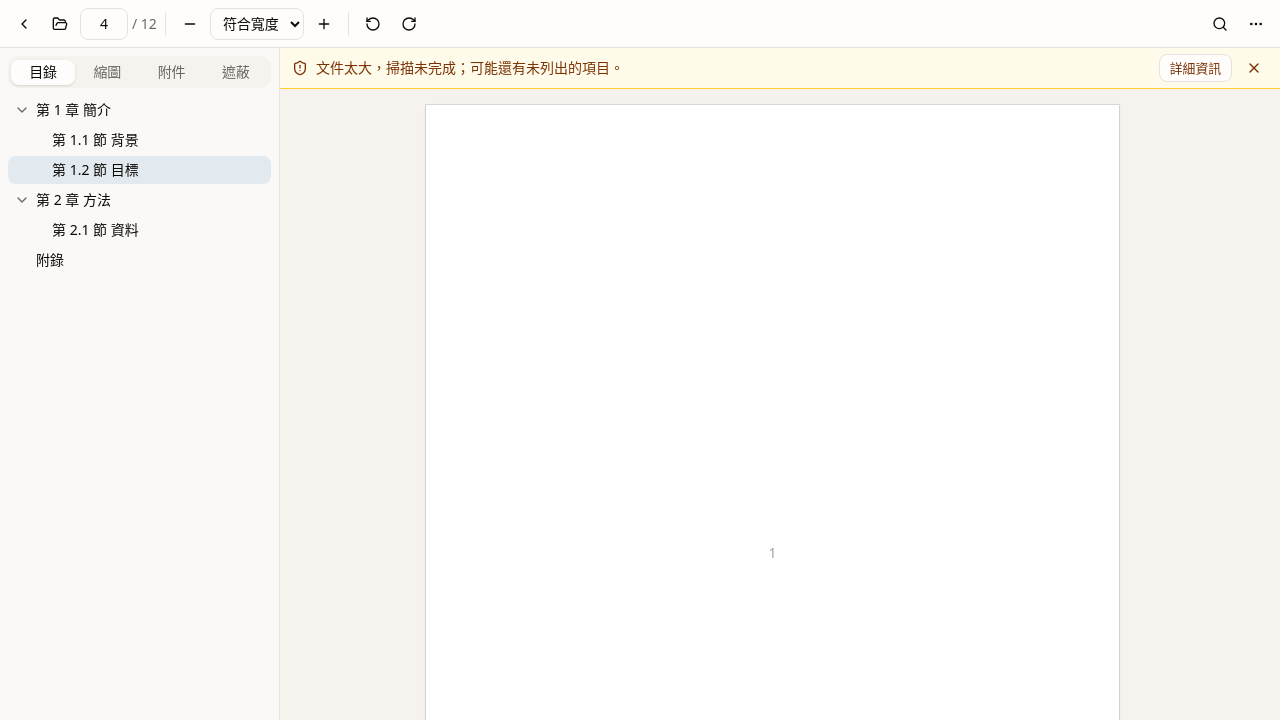
it: open document › an unfinished scan is shown even when nothing was found
Expected: the element named "已封鎖內容警示" shows "文件太大，掃描未完成；可能還有未列出的項目。", [316,58,624,77]
Click the button "詳細資訊" at {"x": 1195, "y": 68}, box [1159,54,1232,82]
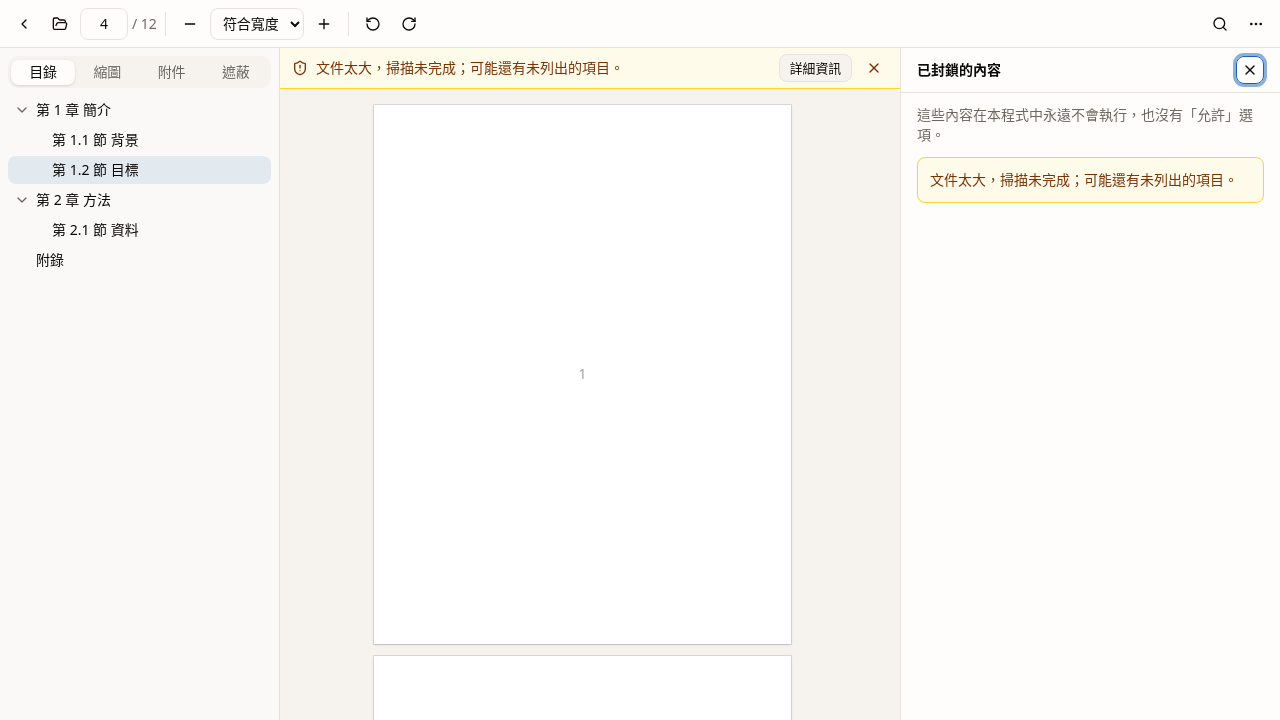
Result: the text "文件太大，掃描未完成；可能還有未列出的項目。" below "這些內容在本程式中永遠不會執行，也沒有「允許」選項。" is shown at [930,170,1238,189]
Click the button named "關閉已封鎖的內容" at {"x": 1250, "y": 70}, box [1236,56,1264,84]
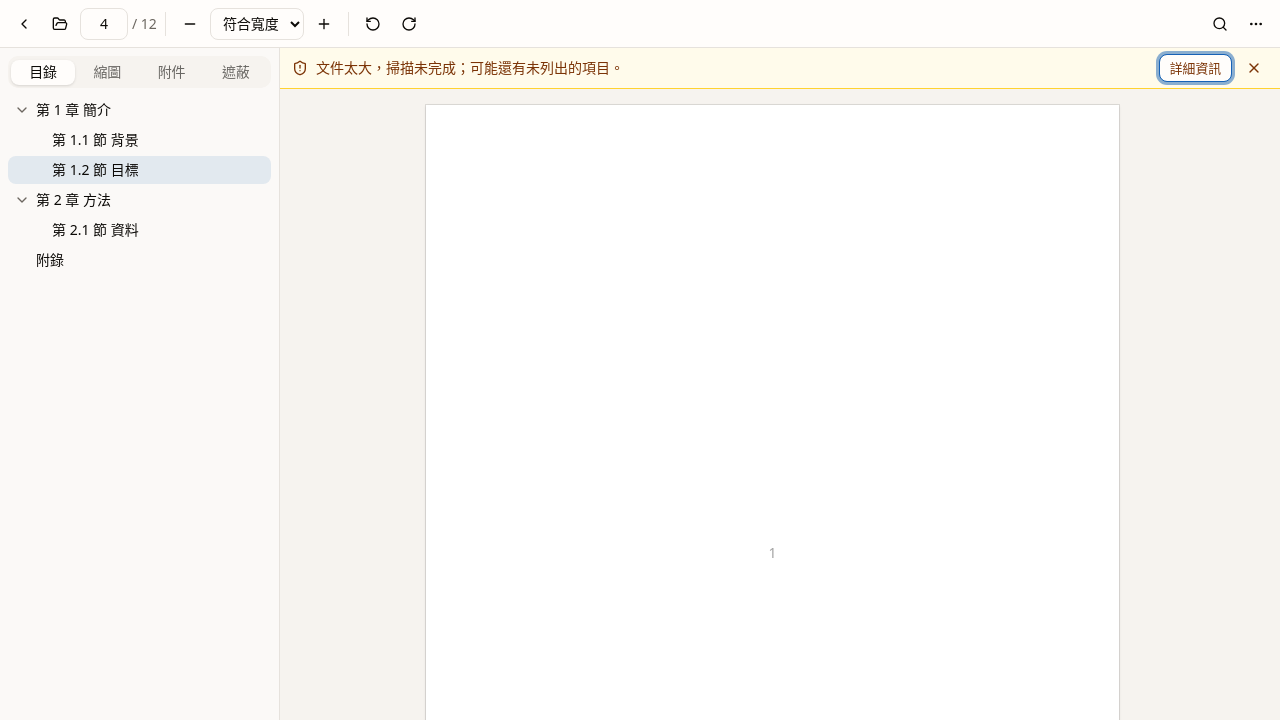
Result: the heading "已封鎖的內容" is gone
